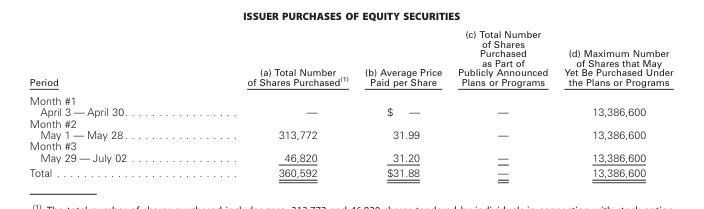table: (28, 28, 672, 177)
table column: (186, 28, 355, 177), (28, 28, 186, 177), (555, 28, 672, 177), (449, 28, 555, 177), (355, 28, 449, 177)
table column header: (28, 28, 672, 90)
table row: (28, 28, 672, 90), (28, 90, 672, 116), (28, 139, 672, 164), (28, 116, 672, 139), (28, 164, 672, 177)
